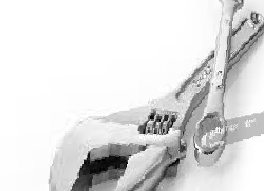Wrench: (31, 21, 264, 191)
